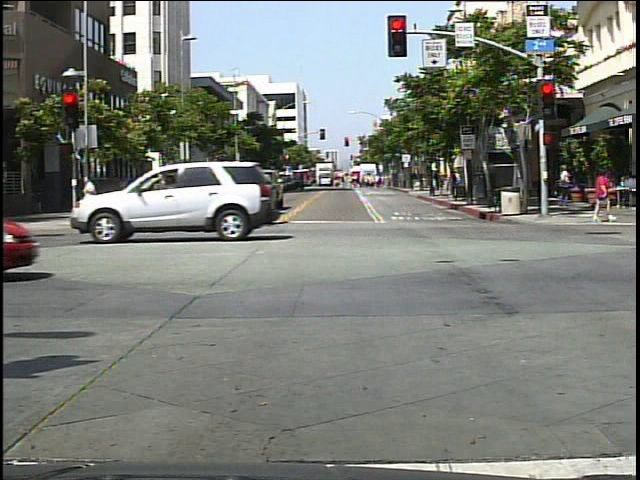person: (587, 168, 620, 229), (555, 162, 578, 213), (79, 172, 100, 215)
